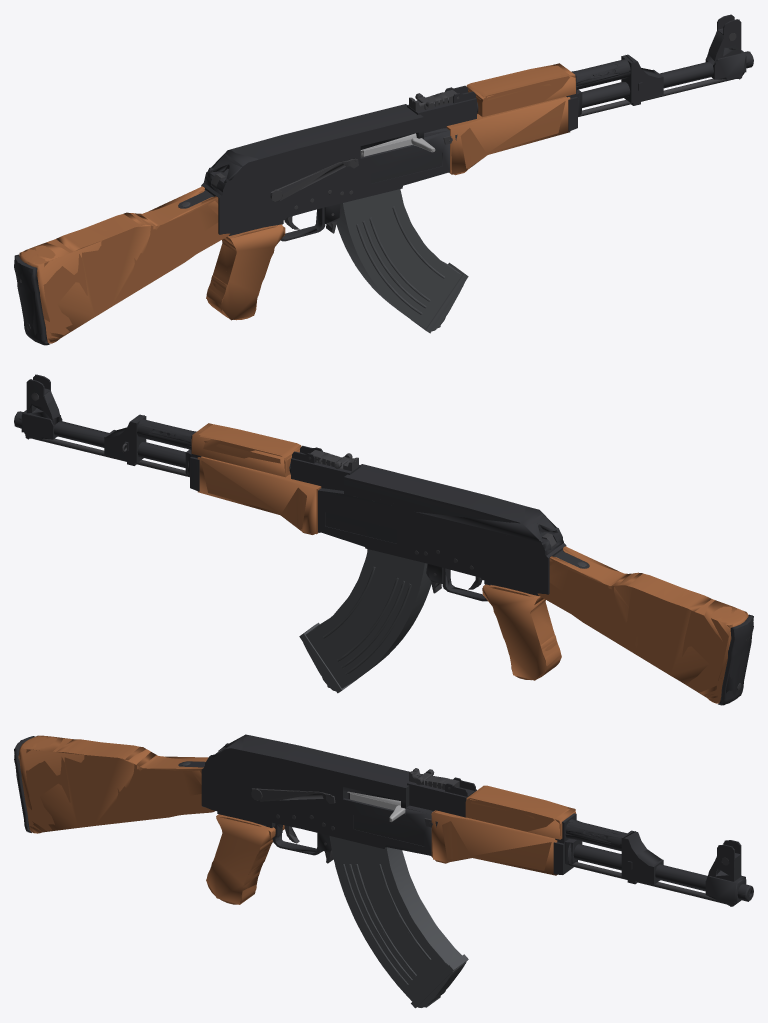
3 views of the same model, one above another, from view 1: azimuth 30°, elevation 25°; view 2: azimuth 150°, elevation 25°; view 3: azimuth 330°, elevation 25° (orthographic).
Parts seen in each view (by area): view 1: mundo_base, perto_base, longe_base, perto_carregador, longe_carregador, mundo_carregador, perto_ferrolho; view 2: perto_base, mundo_base, longe_base, perto_carregador, longe_carregador, mundo_carregador; view 3: mundo_base, perto_base, longe_base, perto_carregador, longe_carregador, mundo_carregador, perto_ferrolho.
Boxes of the visible parts, left/top/right/bottom form: mundo_base: left=14, top=14, right=753, bottom=345; perto_base: left=14, top=16, right=753, bottom=343; longe_base: left=16, top=15, right=753, bottom=345; perto_carregador: left=337, top=189, right=466, bottom=331; longe_carregador: left=336, top=189, right=464, bottom=333; mundo_carregador: left=336, top=189, right=468, bottom=331; perto_ferrolho: left=361, top=133, right=435, bottom=156; perto_base: left=14, top=375, right=753, bottom=704; mundo_base: left=14, top=374, right=753, bottom=705; longe_base: left=14, top=374, right=753, bottom=705; perto_carregador: left=300, top=549, right=430, bottom=690; longe_carregador: left=299, top=558, right=431, bottom=693; mundo_carregador: left=302, top=549, right=430, bottom=692; mundo_base: left=14, top=735, right=753, bottom=906; perto_base: left=14, top=735, right=752, bottom=905; longe_base: left=14, top=734, right=753, bottom=905; perto_carregador: left=330, top=836, right=464, bottom=1007; longe_carregador: left=329, top=836, right=466, bottom=1007; mundo_carregador: left=331, top=847, right=468, bottom=1008; perto_ferrolho: left=348, top=791, right=405, bottom=821.
Bounding box in the file's own units: 34.3 × 10.52 × 2.57.
